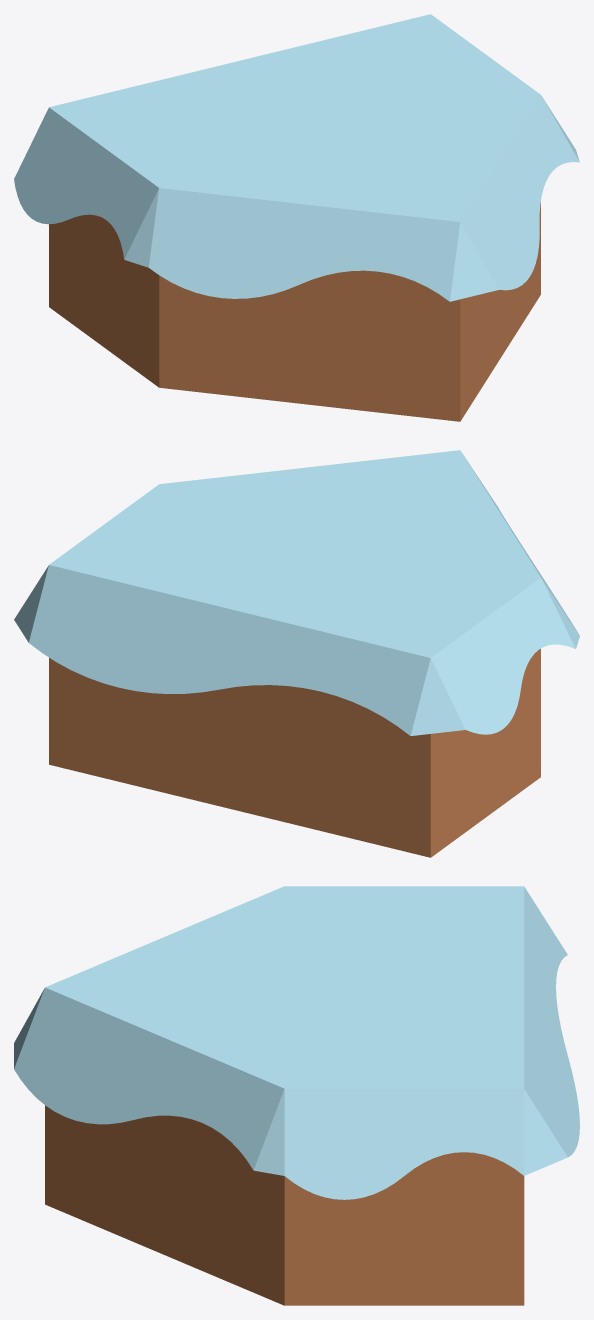
The model's file is blockSnowEnd.dae.
3 renders of one model, top to bottom at view 1: azimuth 30°, elevation 25°; view 2: azimuth 150°, elevation 25°; view 3: azimuth 270°, elevation 25°, orthographic. The views are drawn at different scales.
Parts seen in each view (by area): view 1: blockSnowEnd; view 2: blockSnowEnd; view 3: blockSnowEnd.
Boxes of the visible parts, x1,y1,x2,y2 form: blockSnowEnd: [14, 14, 579, 421]; blockSnowEnd: [14, 450, 579, 857]; blockSnowEnd: [14, 886, 579, 1305].
Size of the model in its own units: 1.23 by 0.5 by 1.18.
